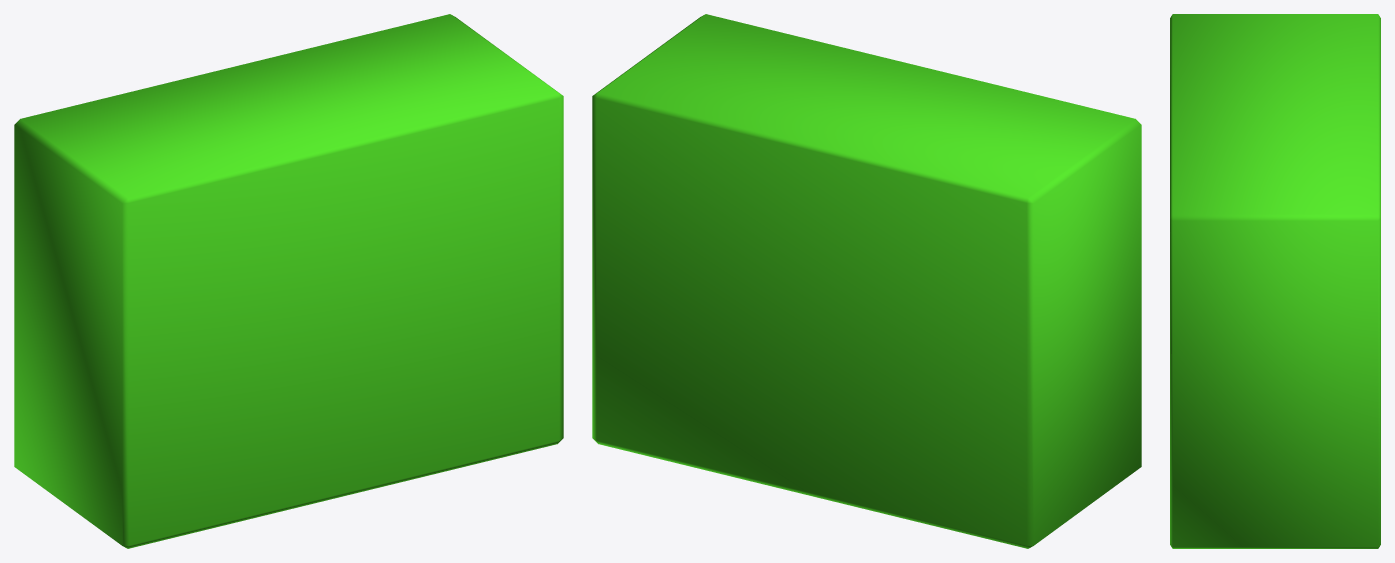
File: GhiaccioloArcobaleno250g.fbx
The picture shows the model from 3 angles, left to right: view 1: azimuth 30°, elevation 25°; view 2: azimuth 150°, elevation 25°; view 3: azimuth 270°, elevation 25°; orthographic projection. The views are drawn at different scales.
Visible parts, largest first — view 1: Ghiaccioli.001; view 2: Ghiaccioli.001; view 3: Ghiaccioli.001.
Boxes of the visible parts, <box> form: Ghiaccioli.001: <box>14,14,563,548</box>; Ghiaccioli.001: <box>592,14,1141,548</box>; Ghiaccioli.001: <box>1170,14,1380,548</box>.
Bounding box in the file's own units: 329 × 250 × 143.
